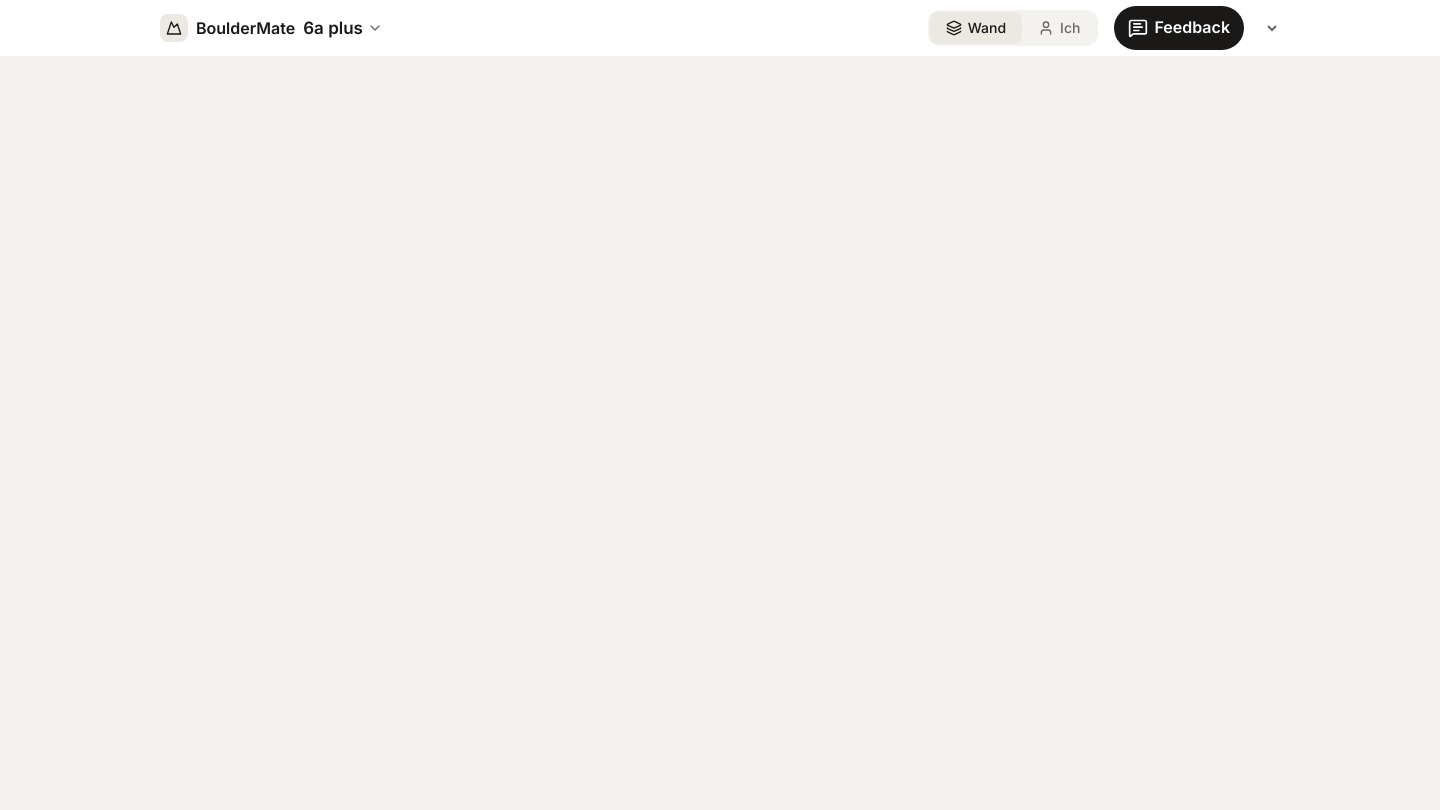
SPEC-026 Einstieg in den Einstellungen › Kletterer-Header zeigt angemeldet den Knopf «Feedback», der das Sheet öffnet (F16, AC-13)
Click the button with test id "header-feedback-btn".
click(1179, 28)  # box 1114,6 -> 1244,50
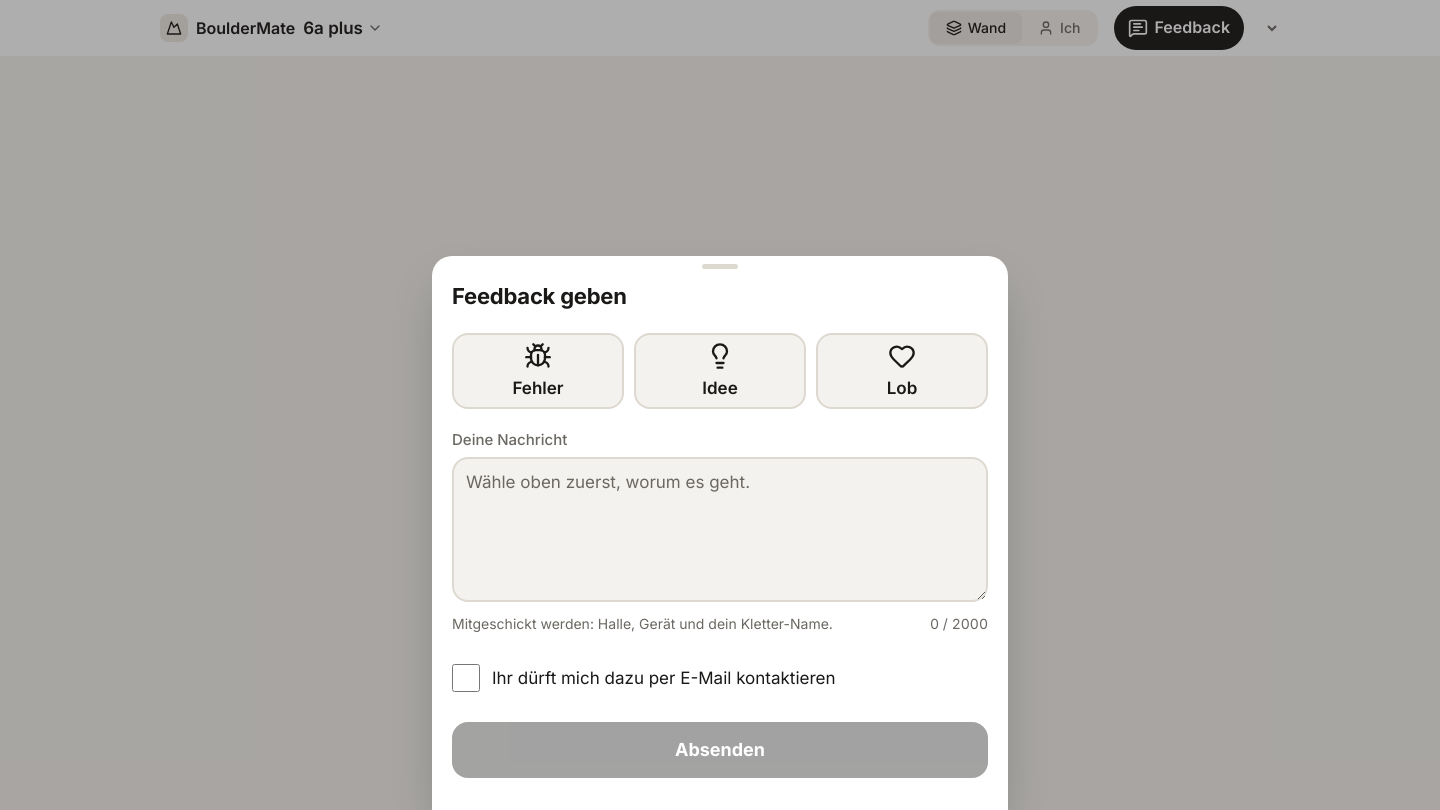
Expected: the dialog with test id "feedback-sheet" is shown
Click the radio button with test id "feedback-category-praise".
click(902, 371)  # box 816,333 -> 988,409
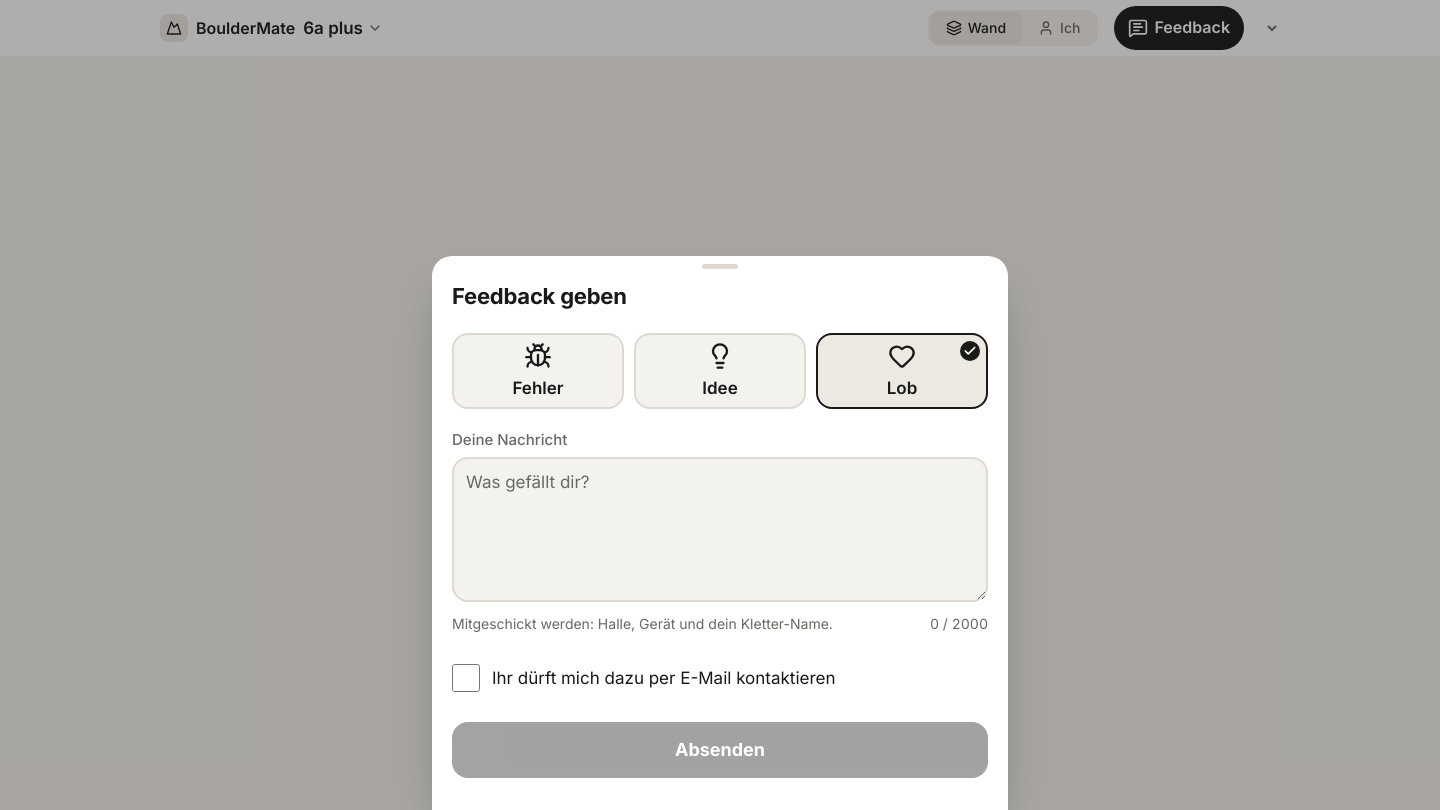
Type "Gefällt mir sehr" into the text box with test id "feedback-message".
click(720, 529); type("Gefällt mir sehr")  # box 452,457 -> 988,602
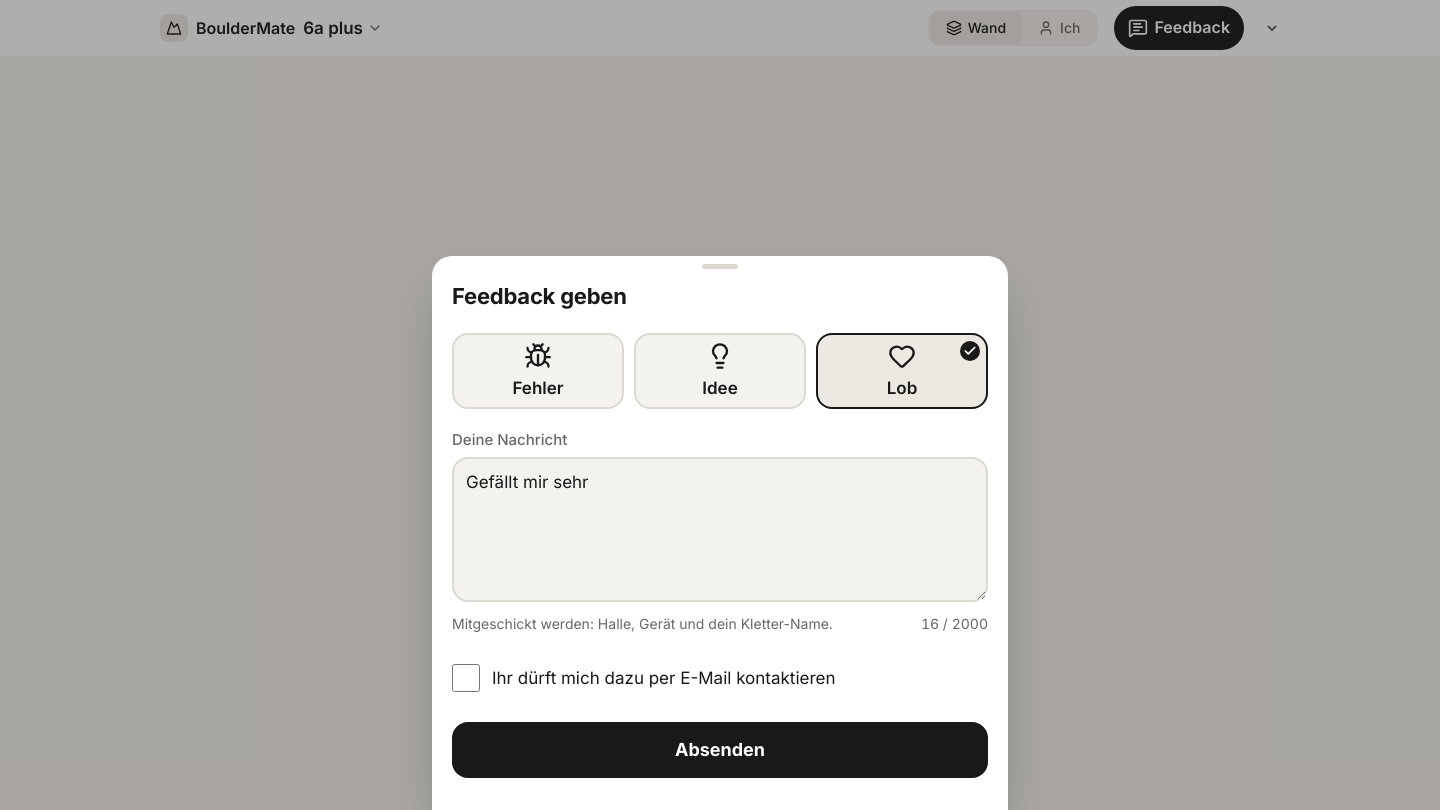
Click the button with test id "feedback-submit".
click(720, 750)  # box 452,722 -> 988,778
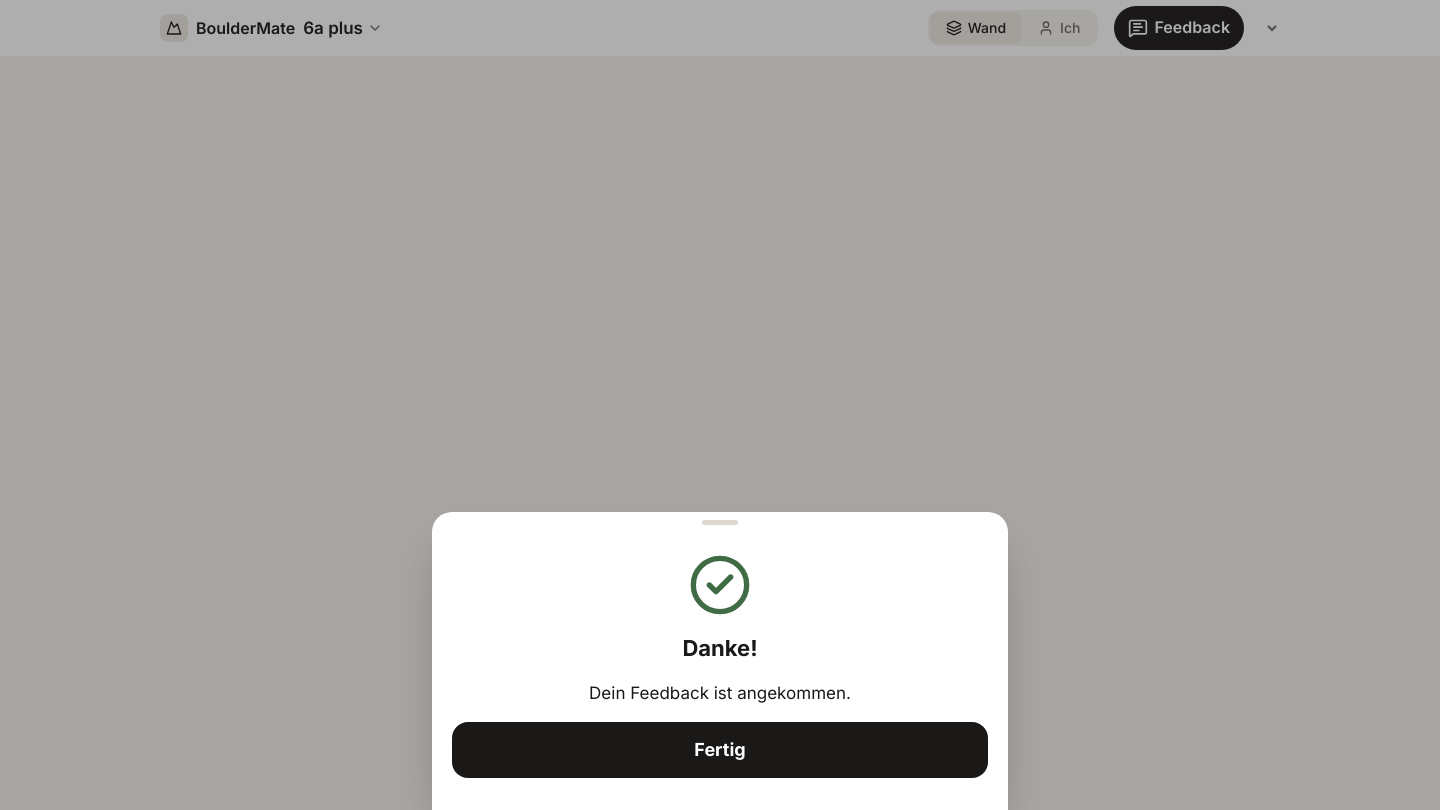
Expected: the element with test id "feedback-thanks" is shown, 432,530 -> 1008,794
